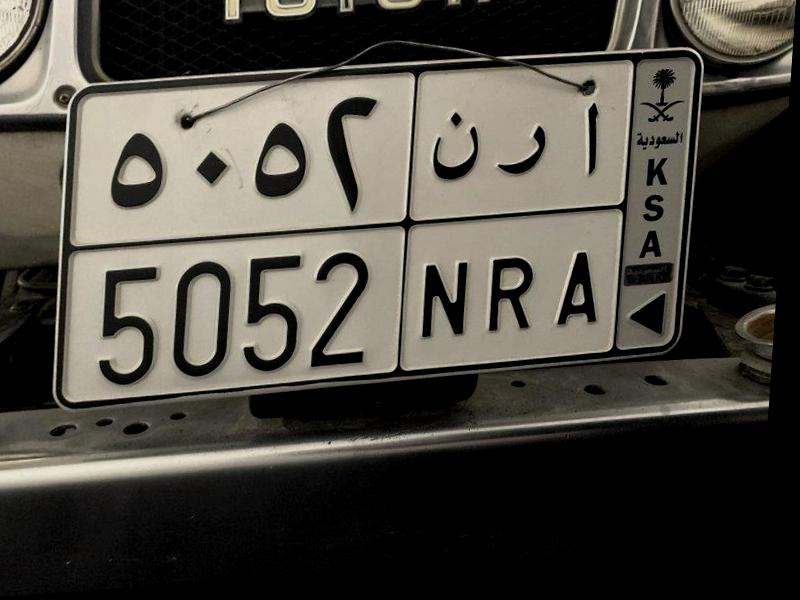License_Plate: (41, 26, 711, 417)
